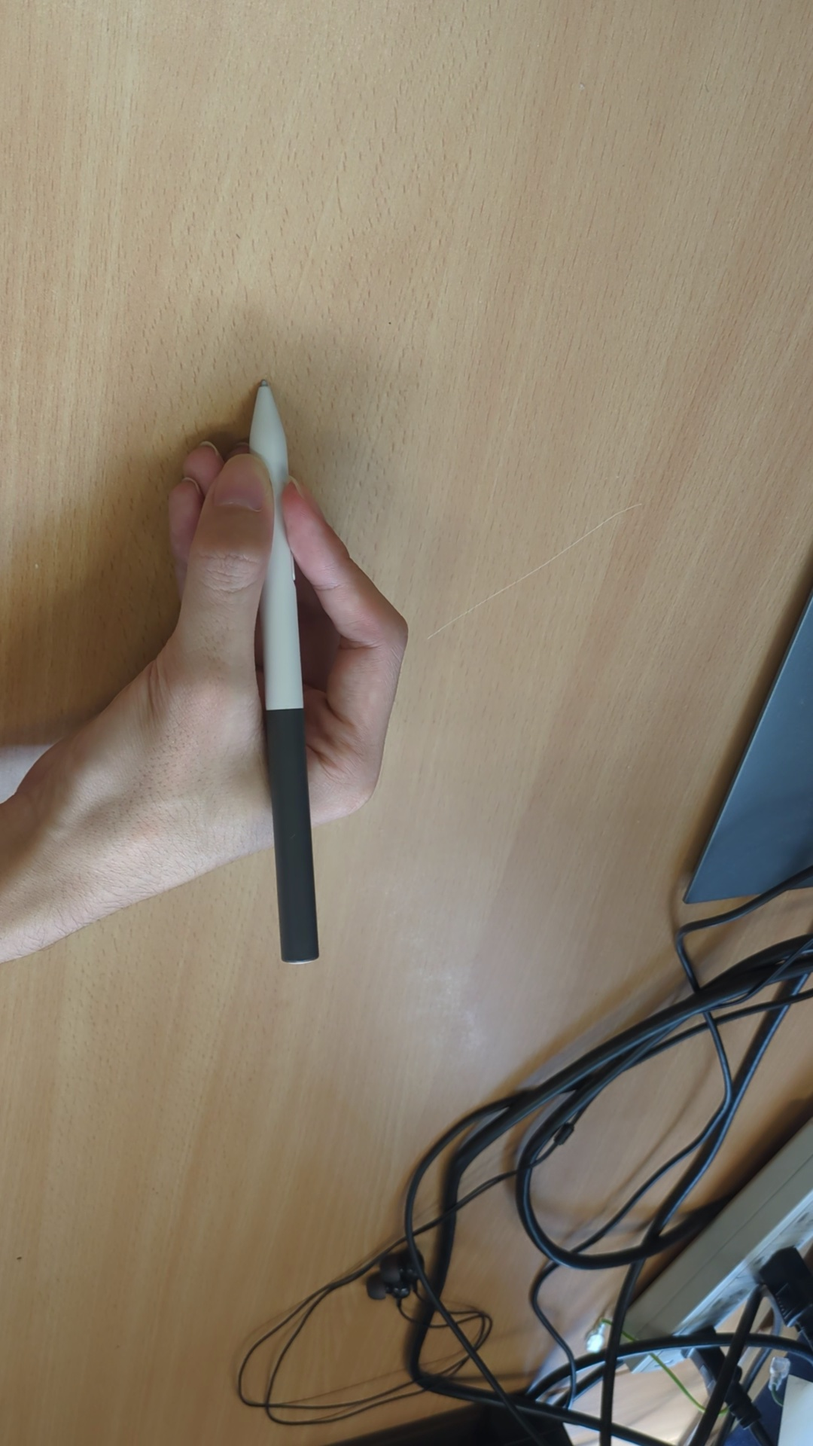pen: (238, 375, 324, 968)
tip: (248, 374, 277, 399)
